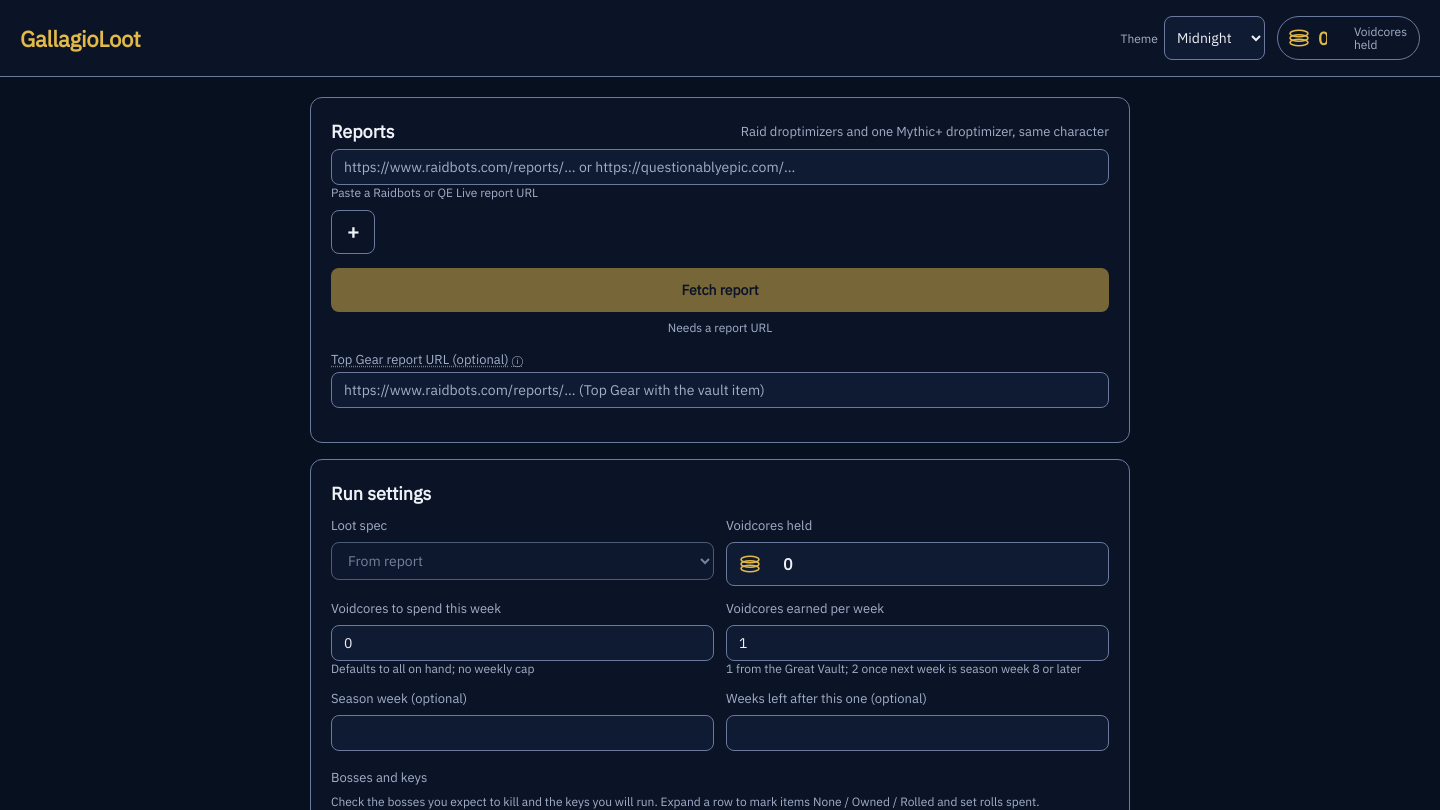
items equipped in the sim profile › shows Equipped + Owned by default and never writes that default to the stored knockout state
Replace the text in the field with id "report-url" with "https://www.raidbots.com/simbot/report/6PTZ7TjgU8PdxJhZ97bMUa" at {"x": 720, "y": 167}, box [331,149,1109,185]
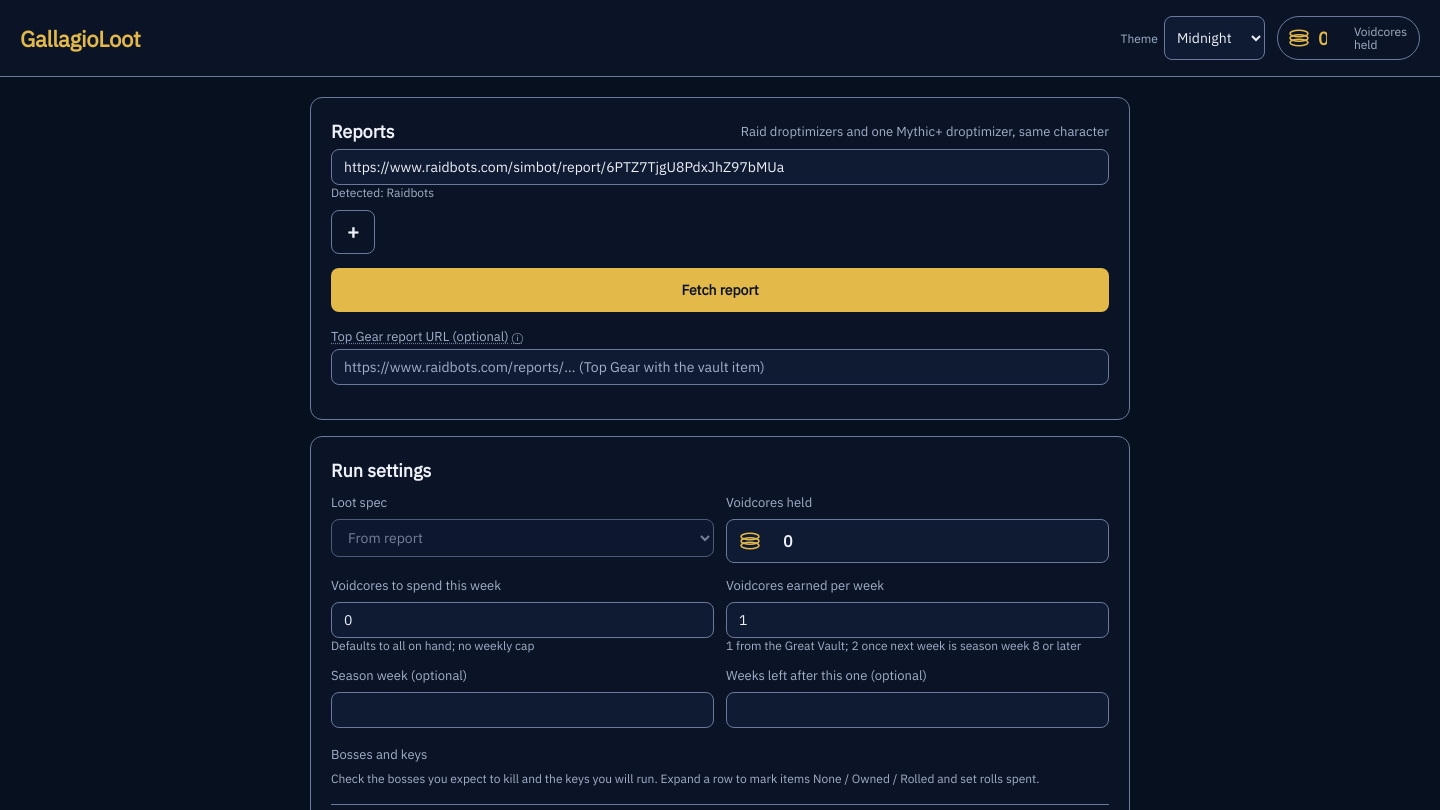
Click the button "Fetch report".
click(720, 290)  # box [331,268,1109,312]
(page scrolled)
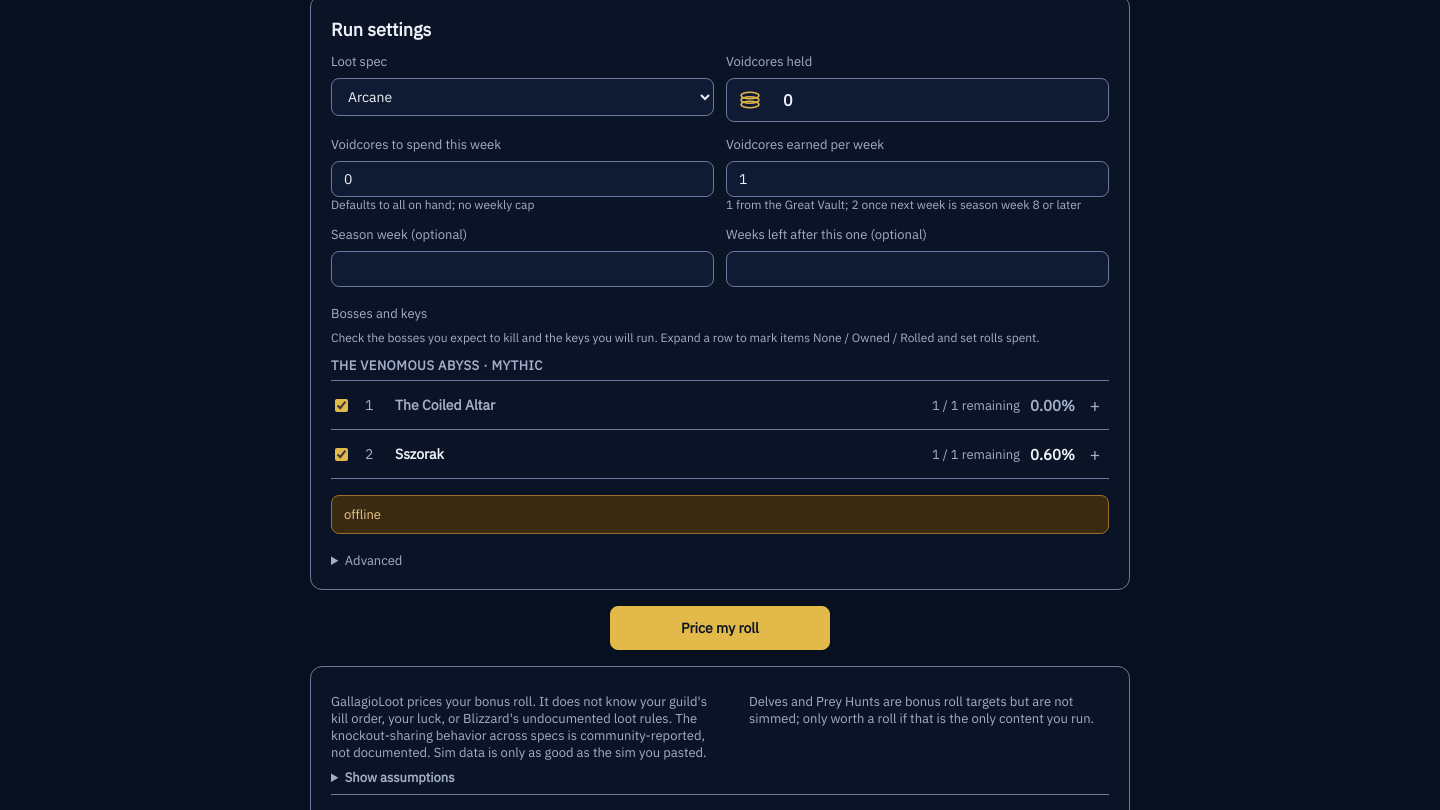
Click the button with class "boss-row__summary" that starts with "The Coiled Altar".
click(445, 405)  # box [361,384,1109,426]
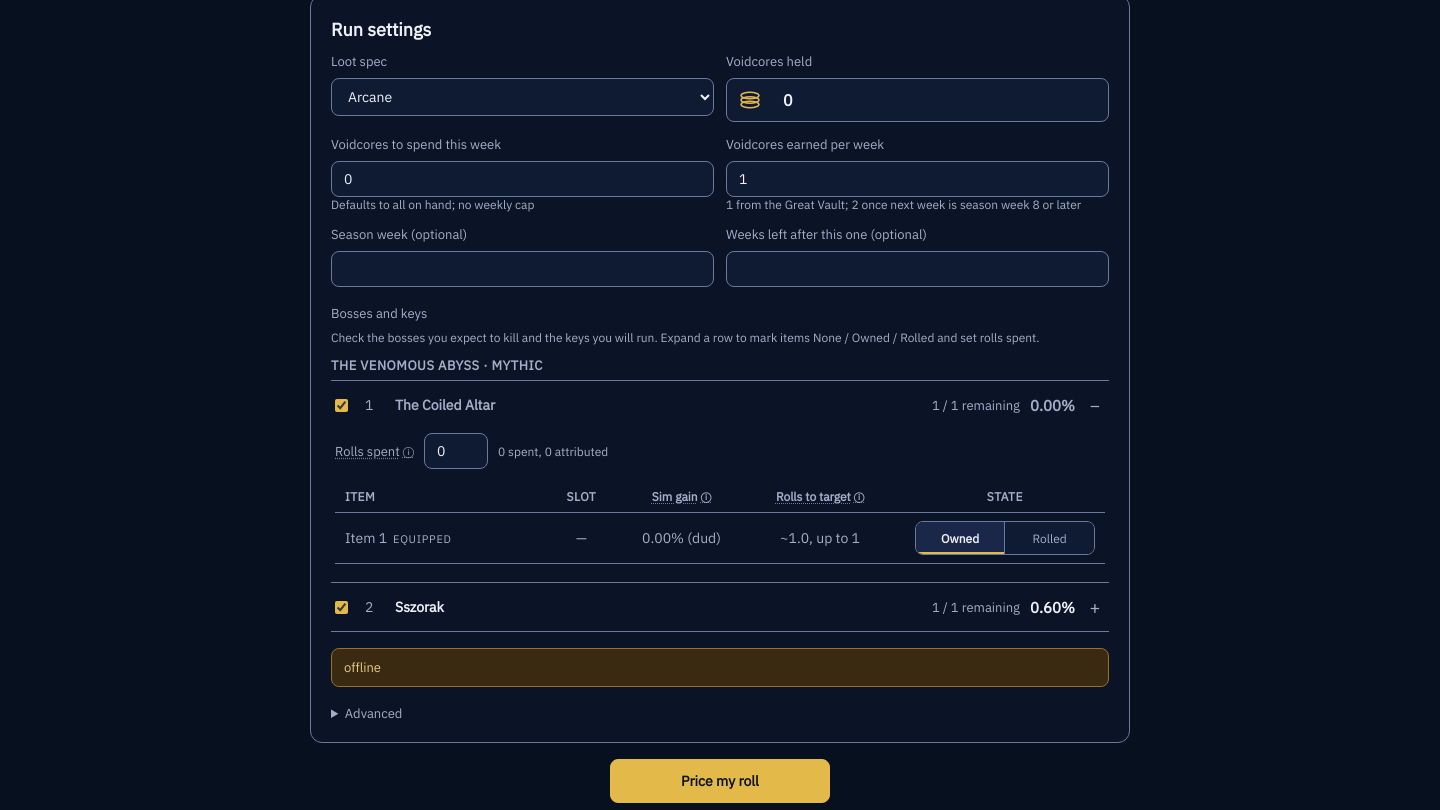
Check: the text with class "item-tag--equipped" reads "Equipped", box [393,532,452,546]
Check: the button with class "state-seg__btn--on" reads "Owned", box [916,522,1005,554]
